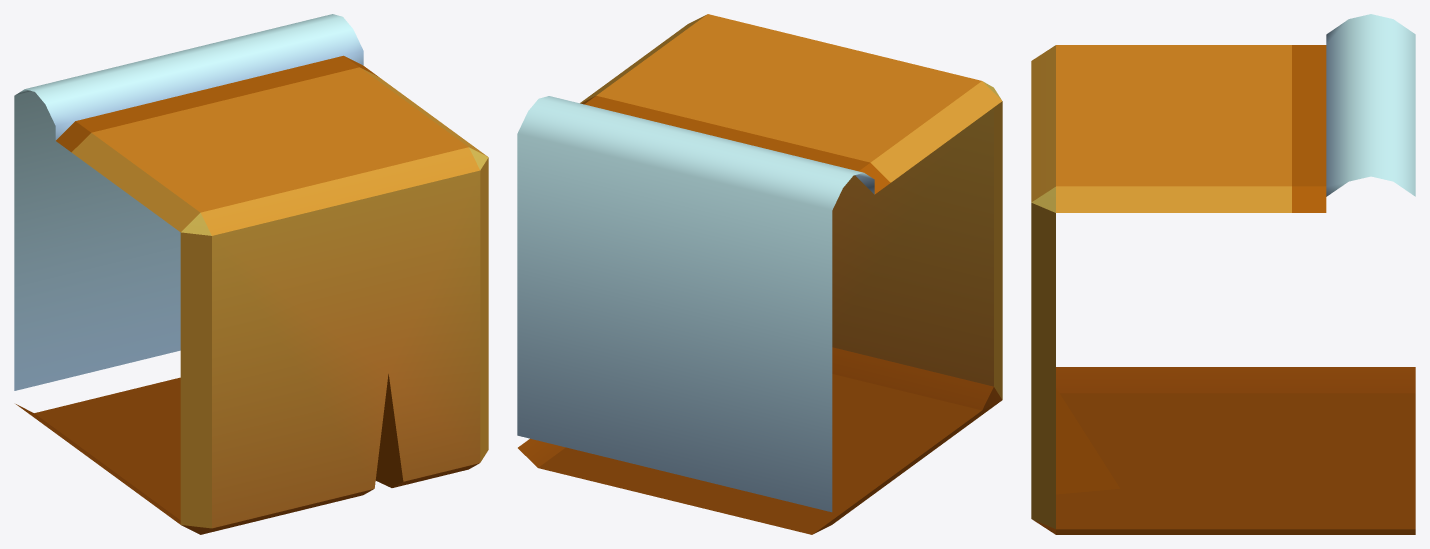
File: pool_1.fbx
3 views of the same model, side by side, from view 1: azimuth 30°, elevation 25°; view 2: azimuth 150°, elevation 25°; view 3: azimuth 270°, elevation 25° (orthographic). The views are drawn at different scales.
Parts seen in each view (by area): view 1: pool_1; view 2: pool_1; view 3: pool_1.
Part boxes in pixels (x1,y1,x2,y2): pool_1: [14, 14, 488, 534]; pool_1: [517, 14, 1002, 534]; pool_1: [1031, 14, 1415, 534].
Size of the model in its own units: 2 by 2.12 by 2.
